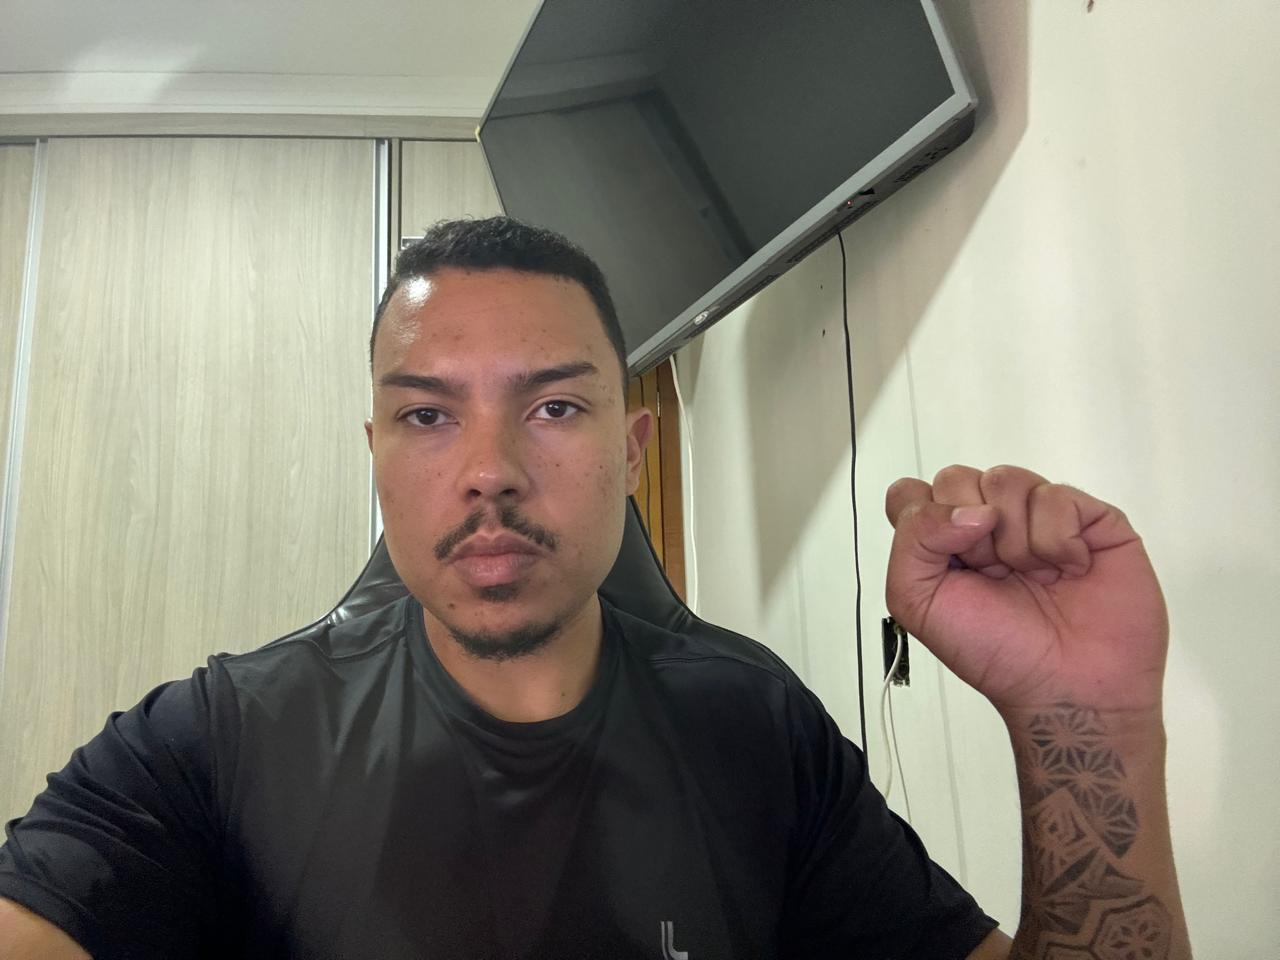s: (862, 445, 1183, 719)
